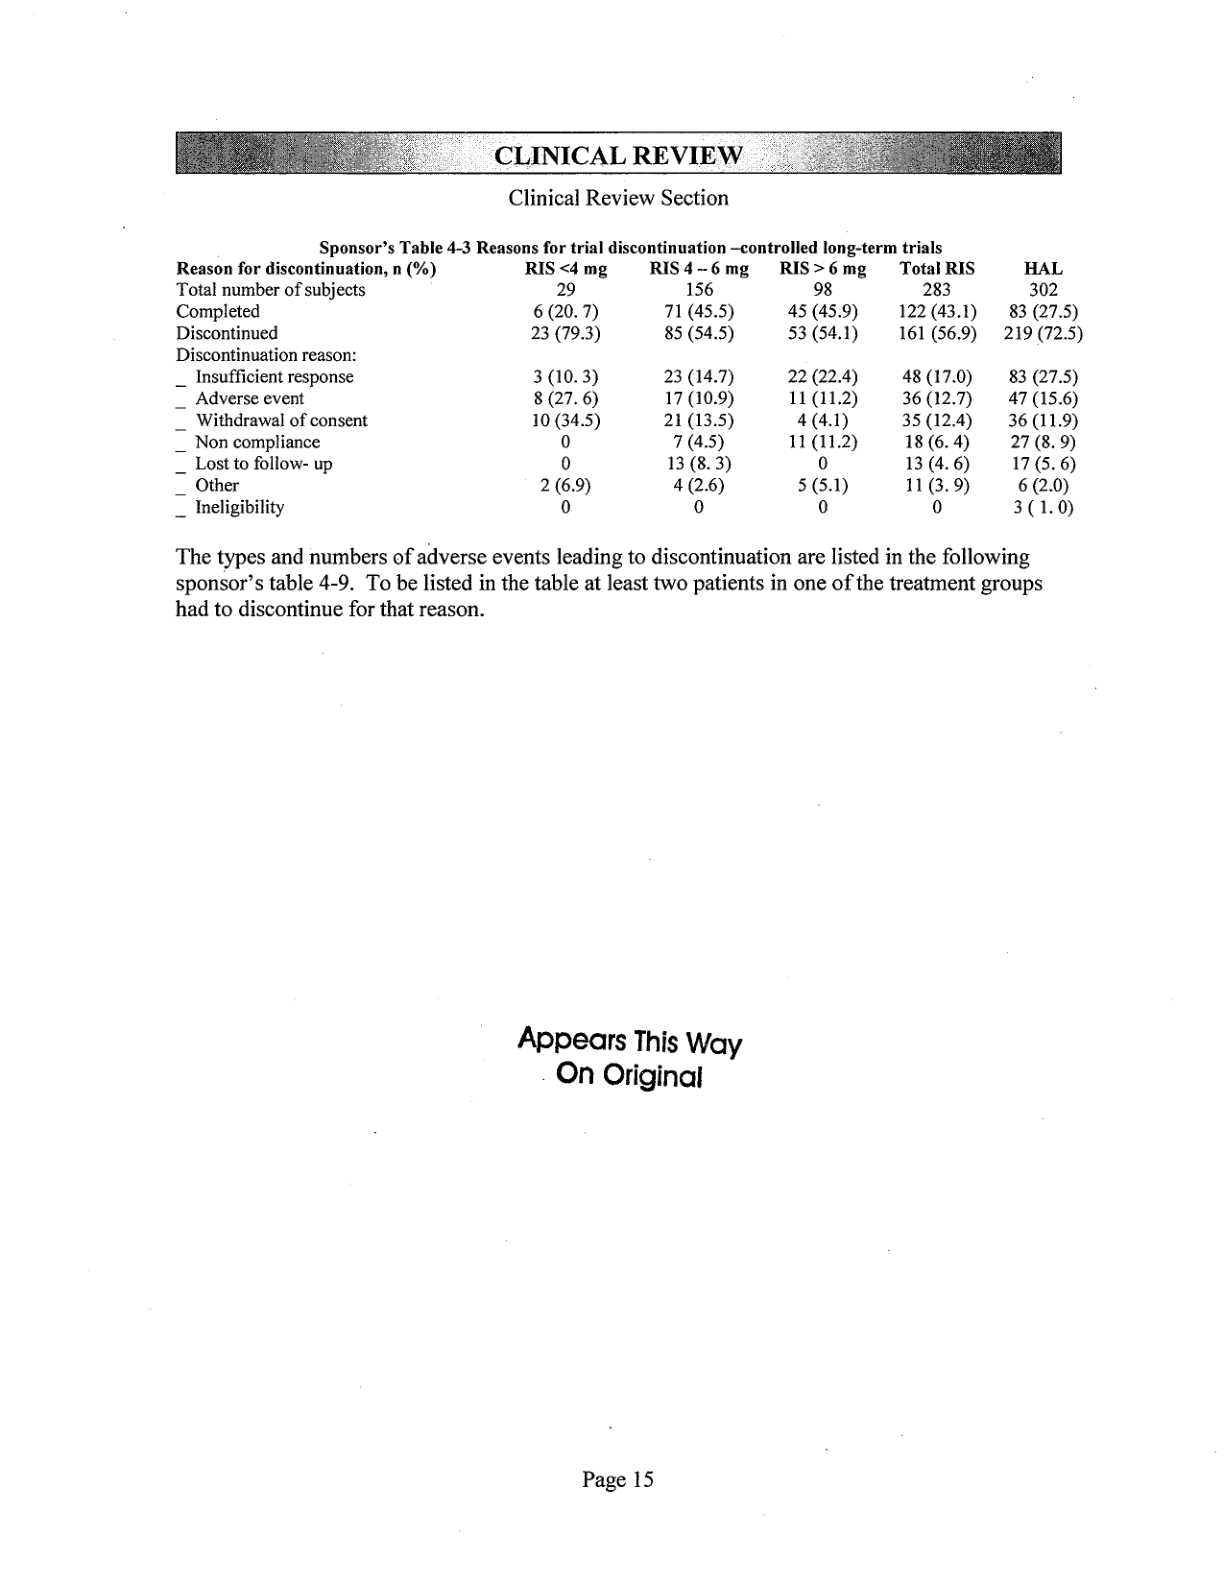nolines: (174, 258, 1083, 526)
